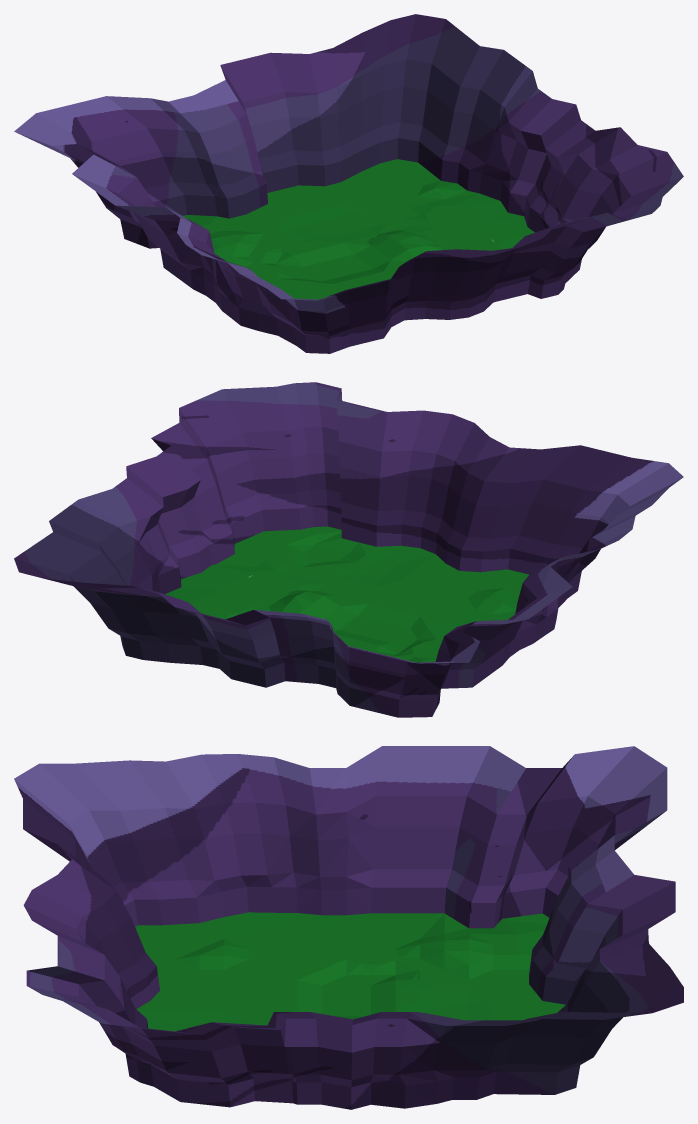
The model's file is Batalla Verde 1.fbx.
3 views of the same model, one above another, from view 1: azimuth 30°, elevation 25°; view 2: azimuth 150°, elevation 25°; view 3: azimuth 270°, elevation 25° (orthographic). The views are drawn at different scales.
Parts seen in each view (by area): view 1: Plane; view 2: Plane; view 3: Plane.
Part boxes in pixels (<box>): Plane: <box>14,14,683,353</box>; Plane: <box>14,382,683,717</box>; Plane: <box>14,746,683,1109</box>.
Size of the model in its own units: 51659 by 51262 by 10811.
Materials: 2 (1 with a texture image).
